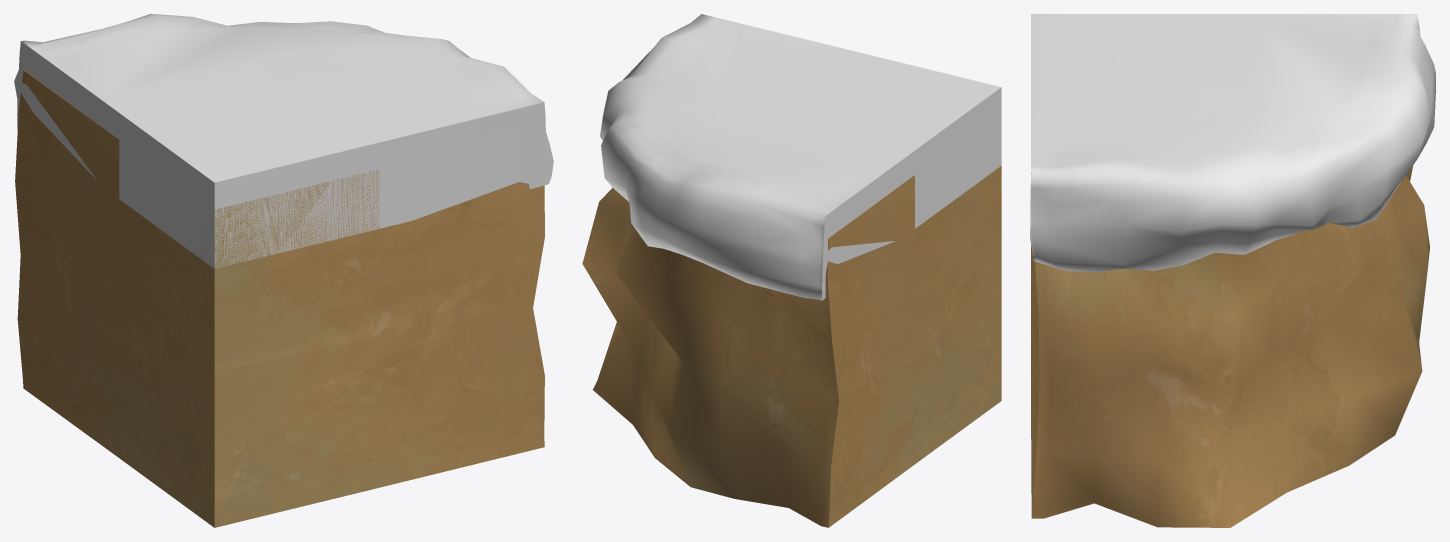
File: RockSnowEdge.fbx
3 renders of one model, left to right at view 1: azimuth 30°, elevation 25°; view 2: azimuth 150°, elevation 25°; view 3: azimuth 270°, elevation 25°, orthographic. The views are drawn at different scales.
Parts seen in each view (by area): view 1: StoneEdge.002, SnowEdge.002; view 2: StoneEdge.002, SnowEdge.002; view 3: StoneEdge.002, SnowEdge.002.
Part boxes in pixels (x1,y1,x2,y2): StoneEdge.002: [15, 70, 544, 527]; SnowEdge.002: [14, 14, 553, 268]; StoneEdge.002: [582, 166, 1001, 527]; SnowEdge.002: [600, 14, 1001, 300]; StoneEdge.002: [1031, 166, 1429, 527]; SnowEdge.002: [1030, 14, 1435, 272].
Size of the model in its own units: 222 by 204 by 214.
